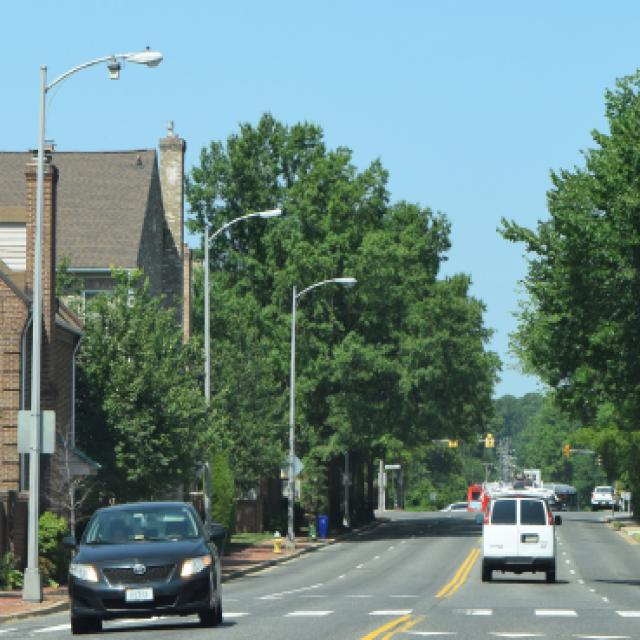Electric pole: (23, 64, 44, 604)
